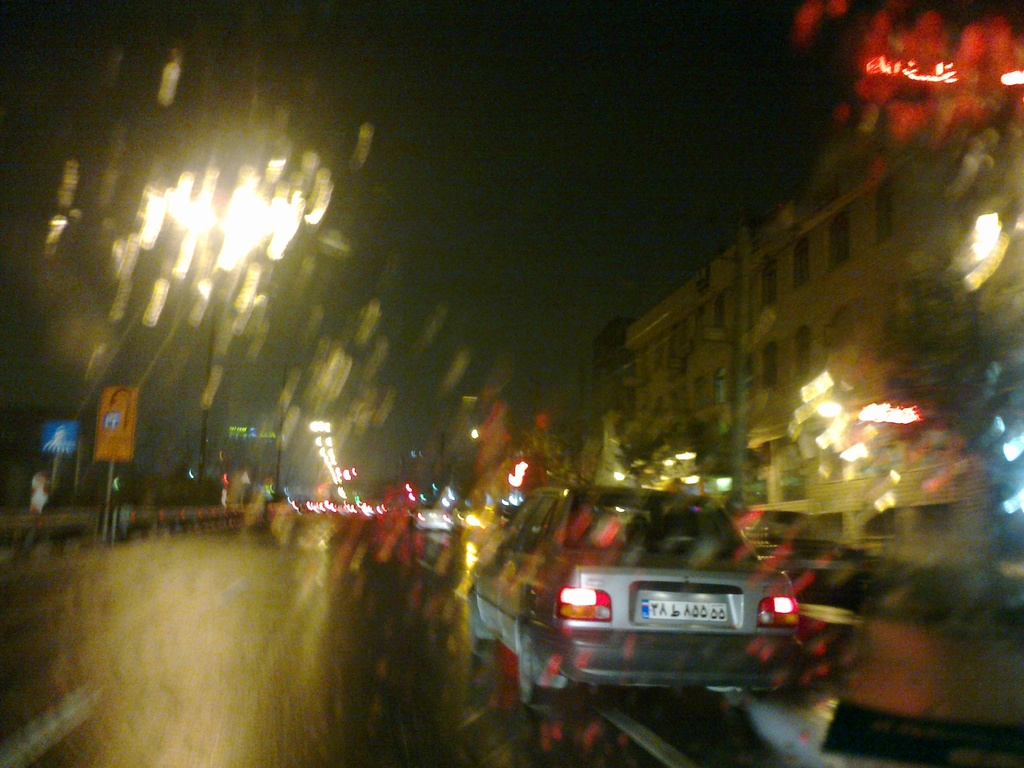Car: (460, 480, 808, 712)
